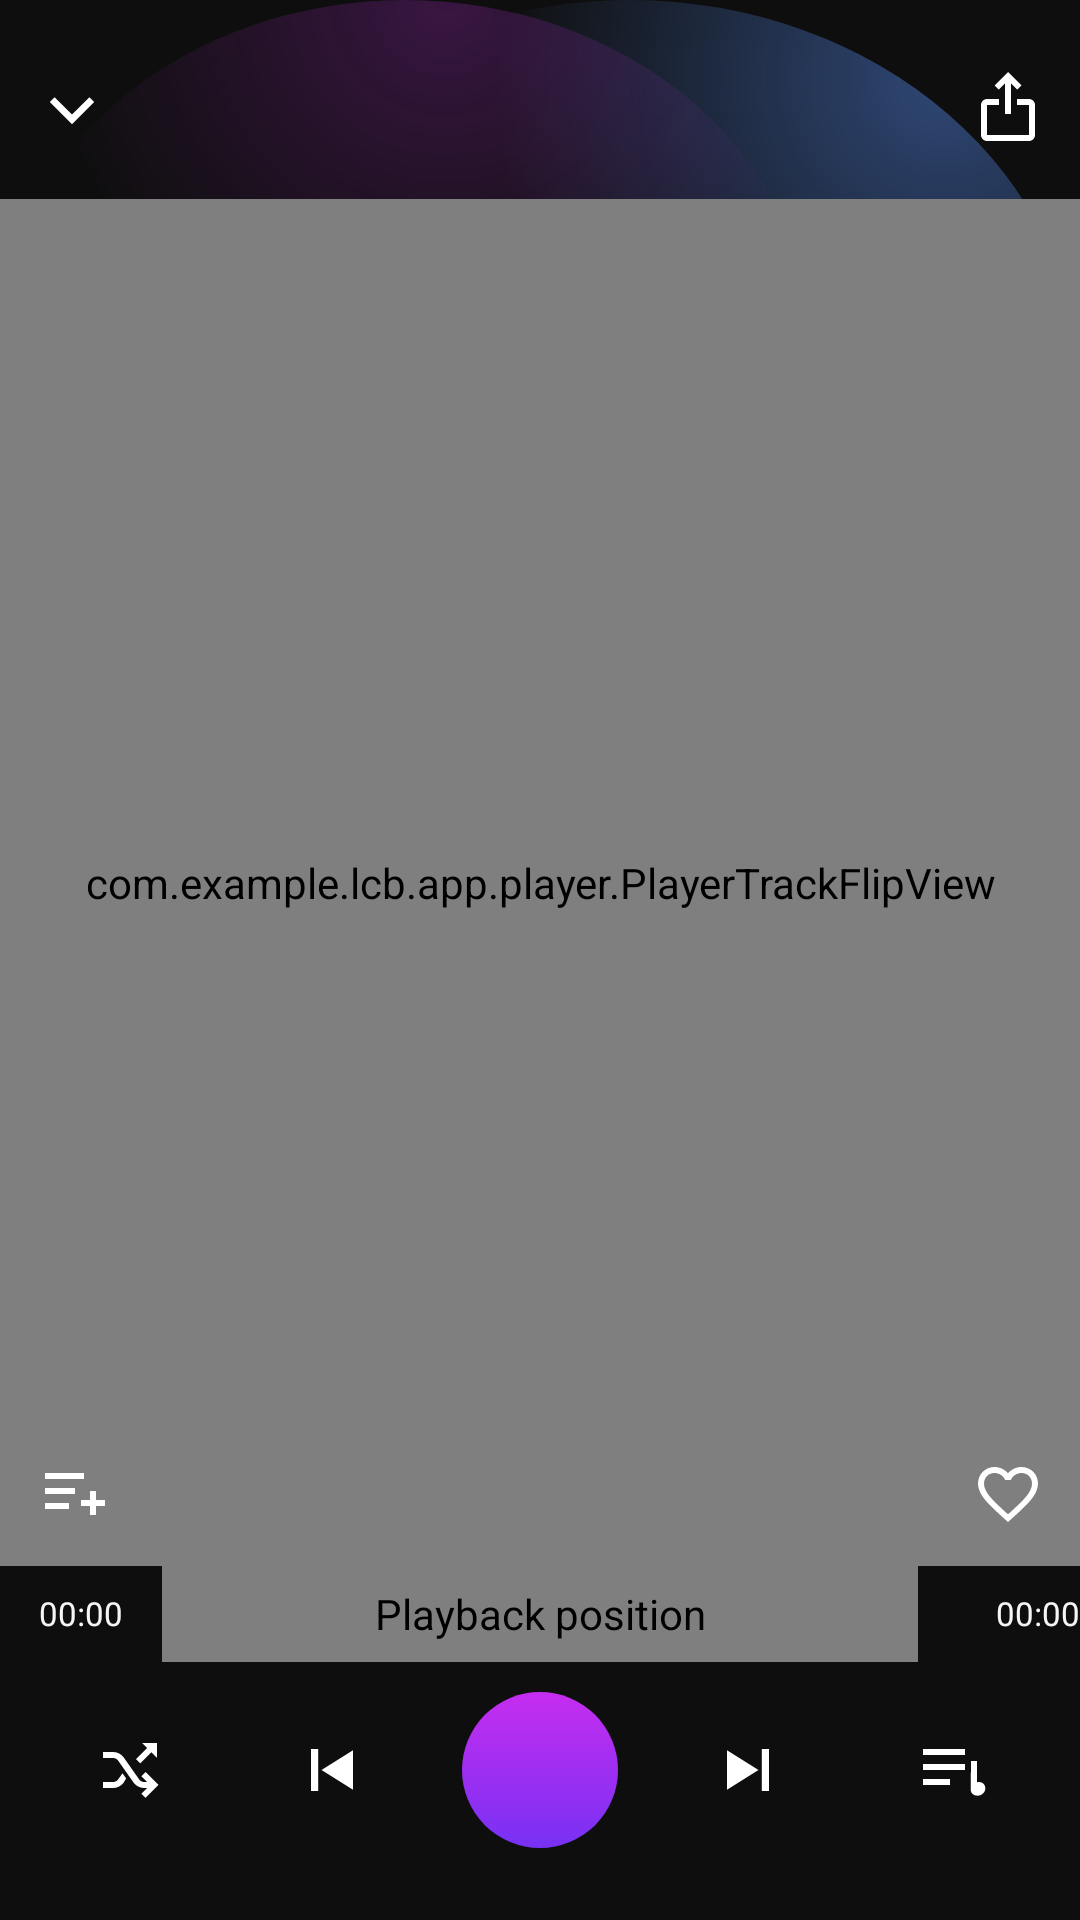

Screen size 1080x1920. Icon name, then its center in pixels as point (x, y):
Add to playlist: point (75, 1494)
Close player: point (72, 110)
Favorite: point (1008, 1494)
Next track: point (748, 1770)
Play queue: point (954, 1772)
Previous track: point (332, 1770)
Shuffle: point (131, 1770)
